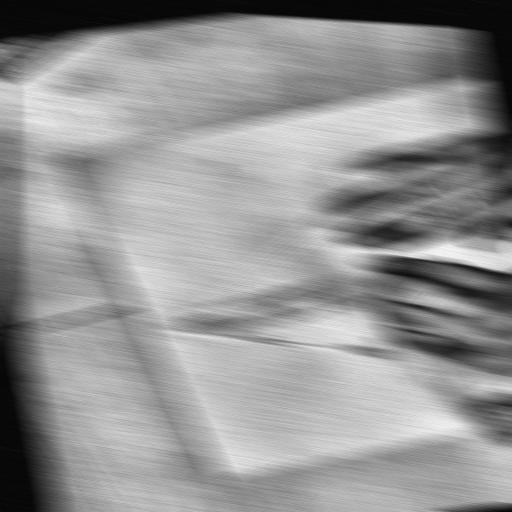boat: (95, 136, 512, 446)
top_left: (208, 470, 234, 482)
top_right: (50, 151, 76, 162)
